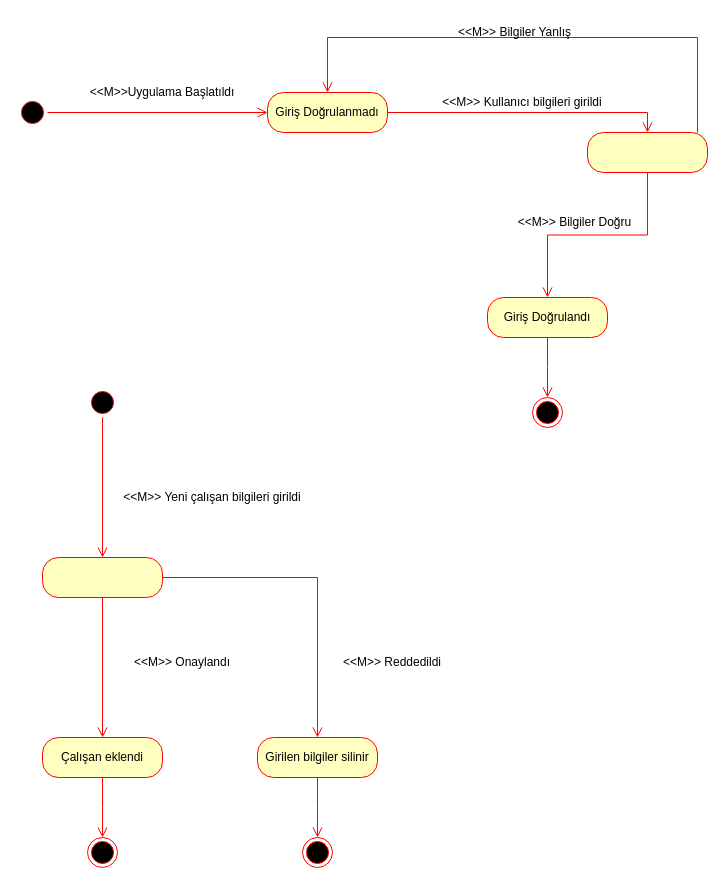
This 725x885 diagram has some shape labels left out. The centre of each missing label's shape, as x and y in pixels:
"Bilgiler Doğrulanıyor" belongs at [647,152].
"Onay bekleniyor" belongs at [102,577].
